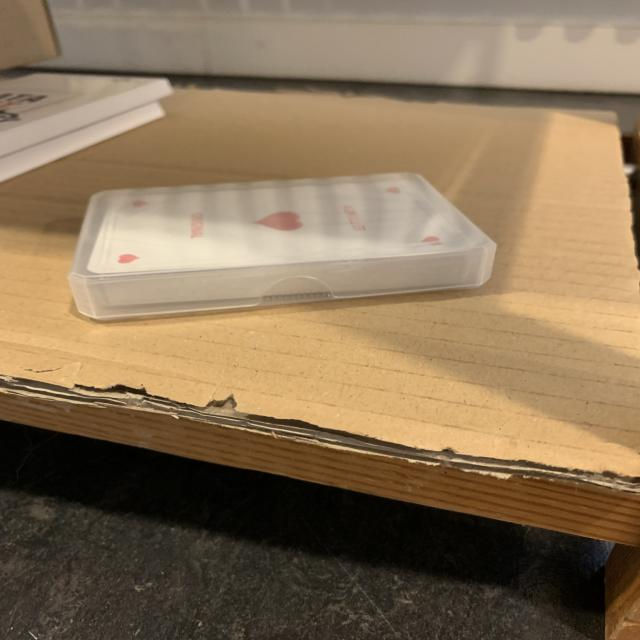Jasskarte: (68, 173, 496, 320)
